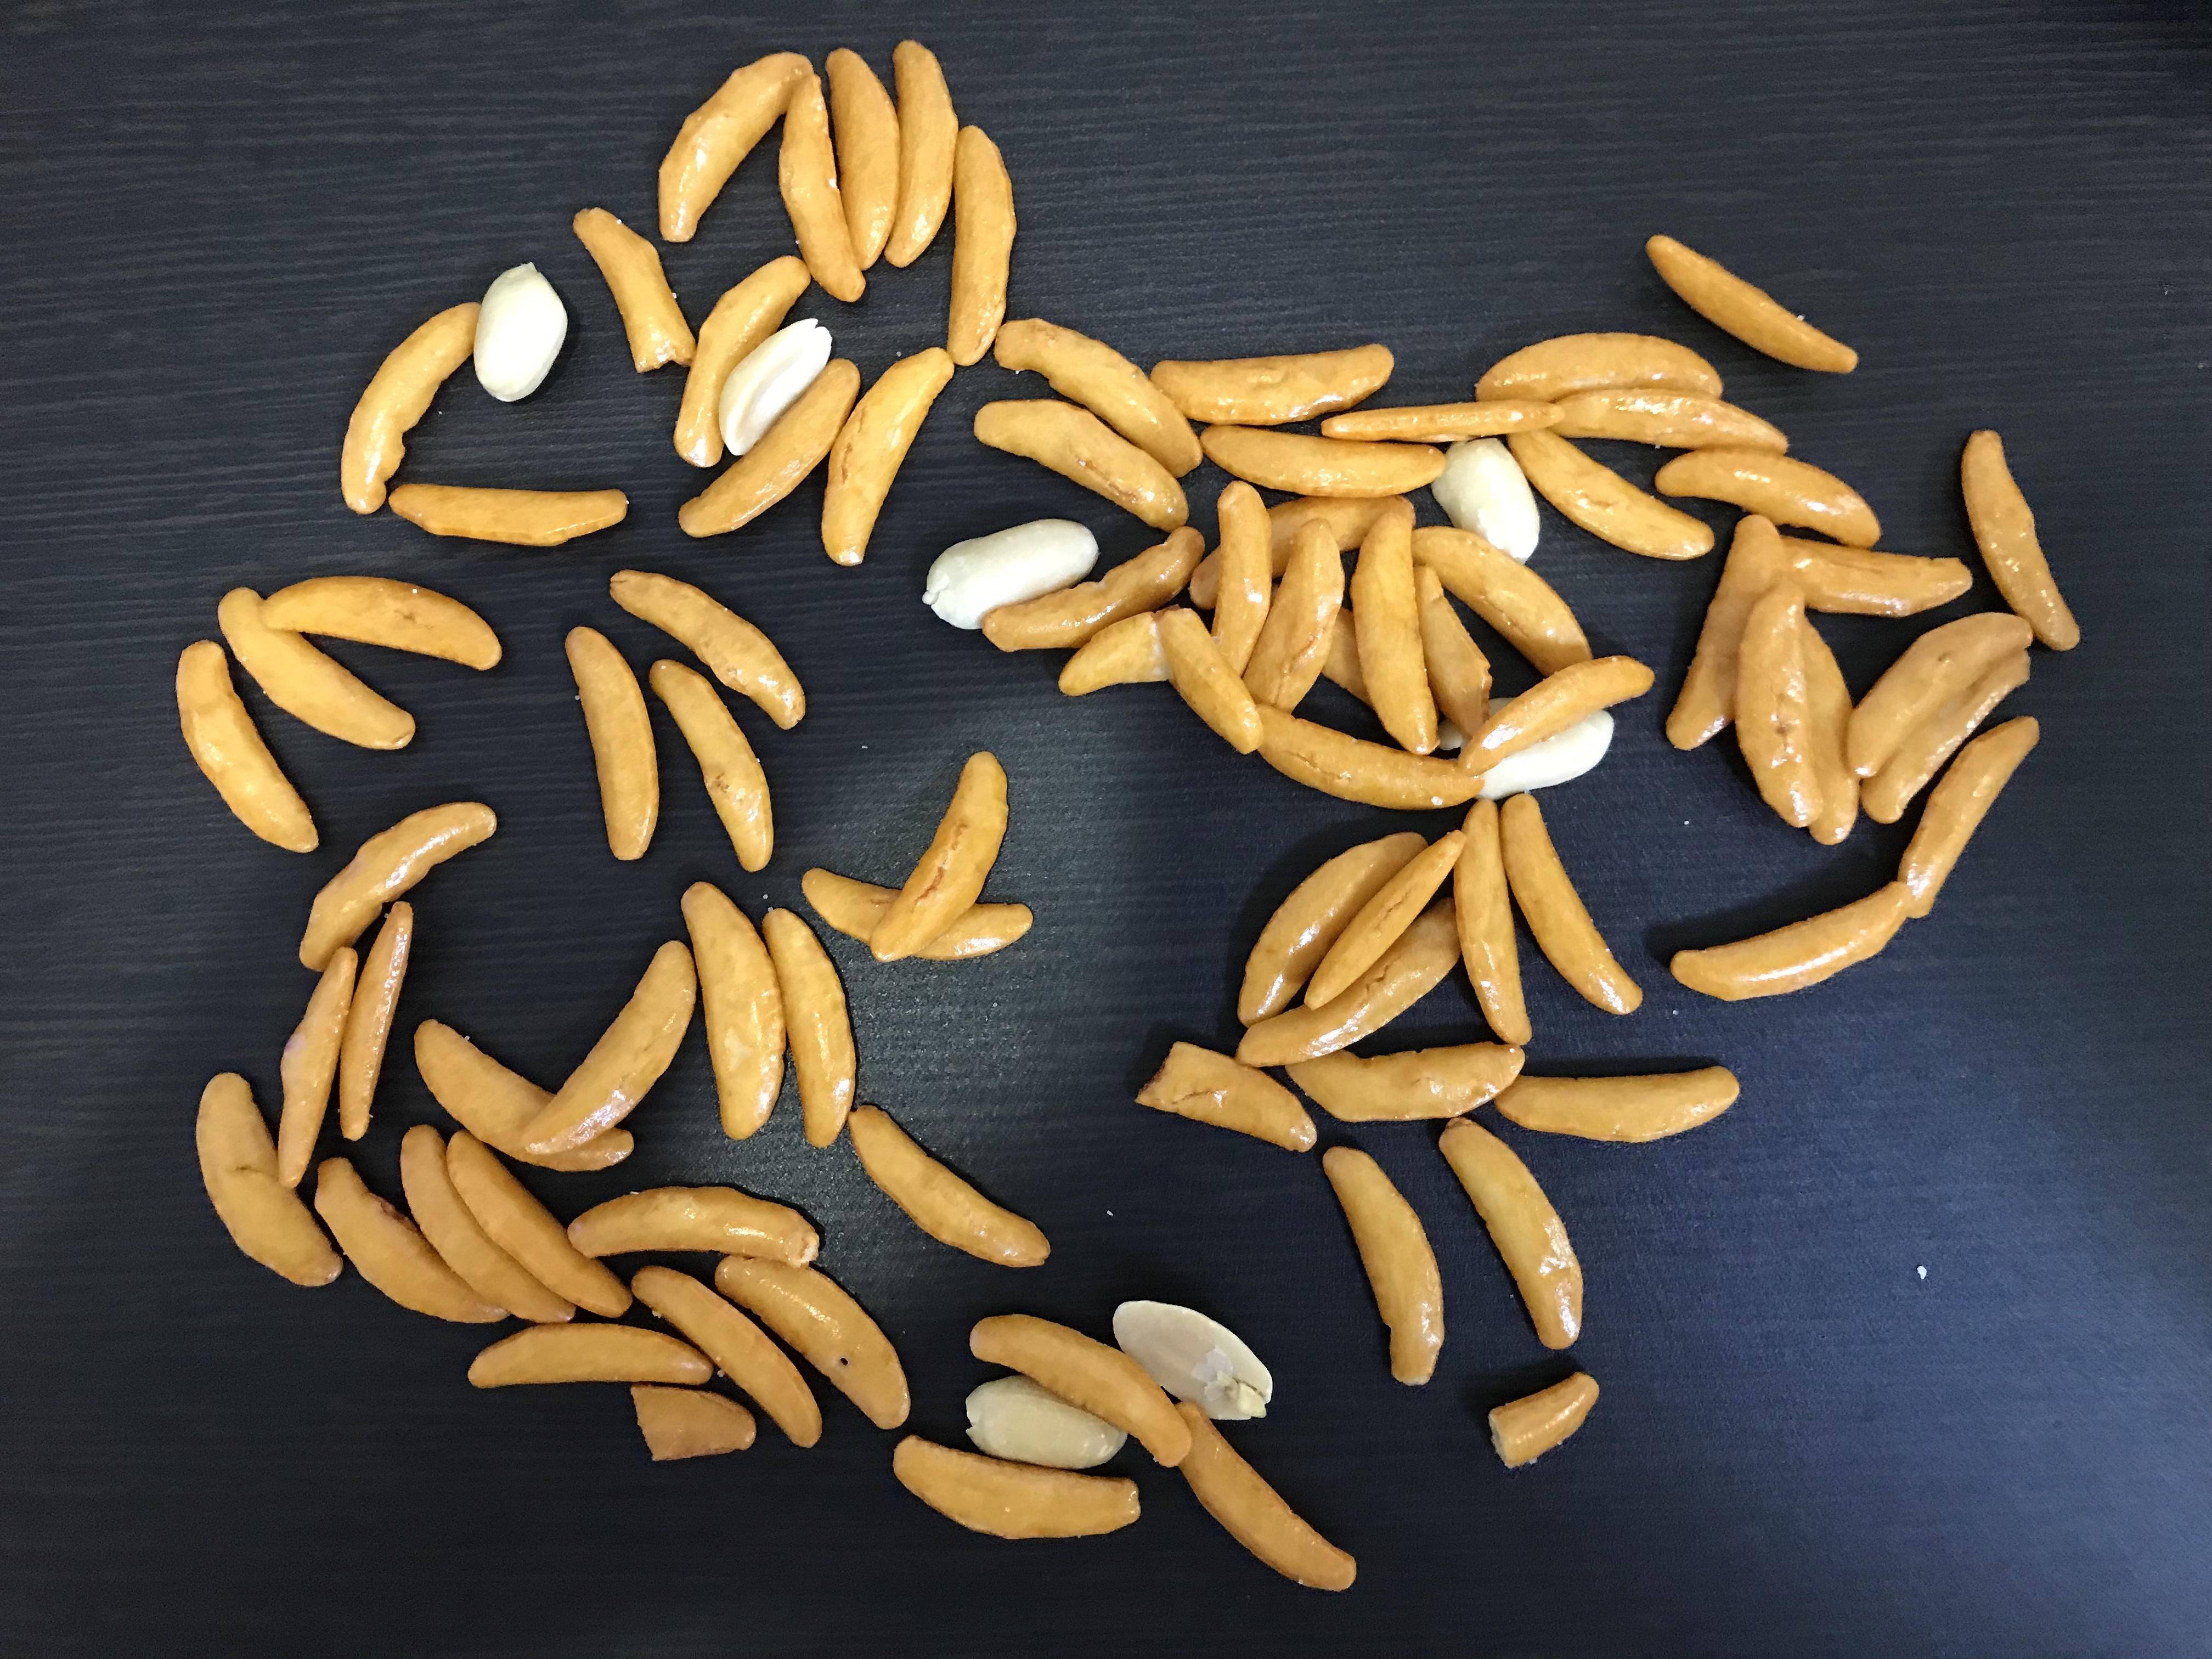peanut: (1109, 1286, 1289, 1420), (923, 516, 1099, 636), (707, 312, 840, 455), (961, 1370, 1137, 1471), (463, 260, 578, 408), (1425, 429, 1548, 566), (1487, 704, 1609, 805)
